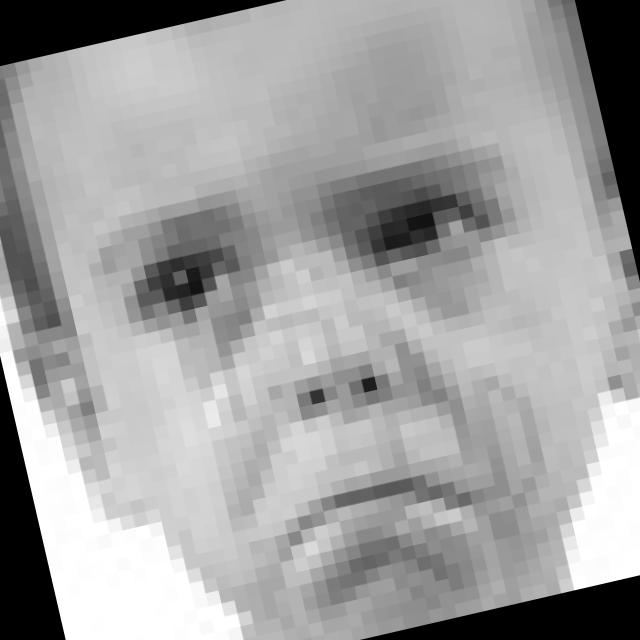sad: (70, 107, 587, 640)
